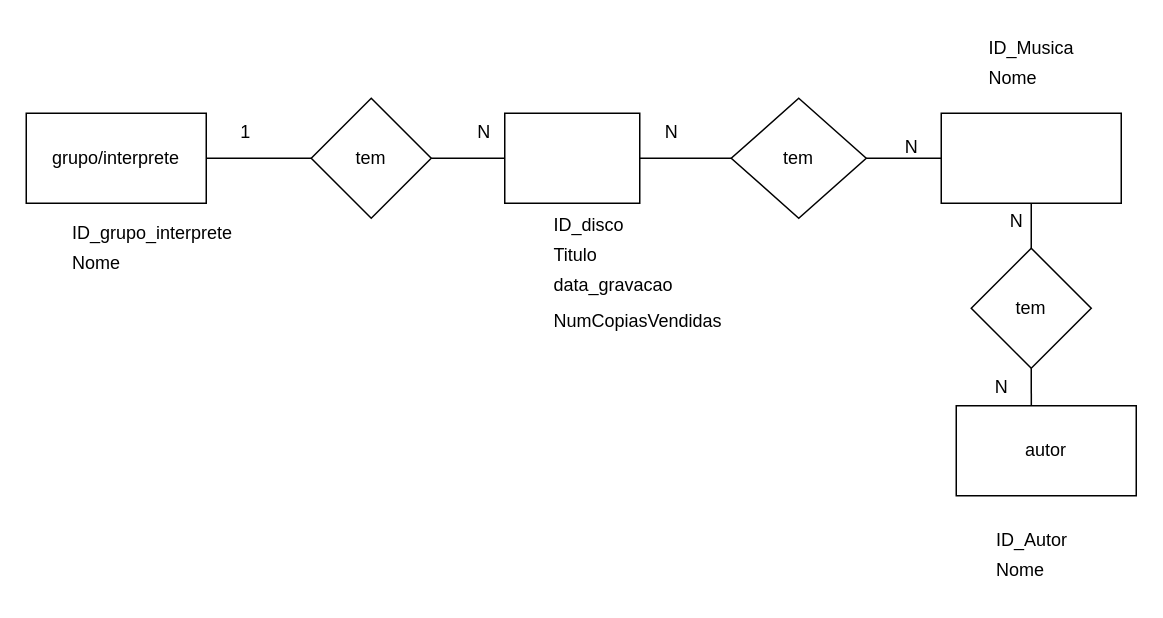
The diagram is 1163 pixels wide and 618 high, and some of its shapes have lost their labels. The centre of each missing label's shape, as x and y in pixels:
"disco" goes at (x=571, y=157).
"musica" goes at (x=1030, y=157).
